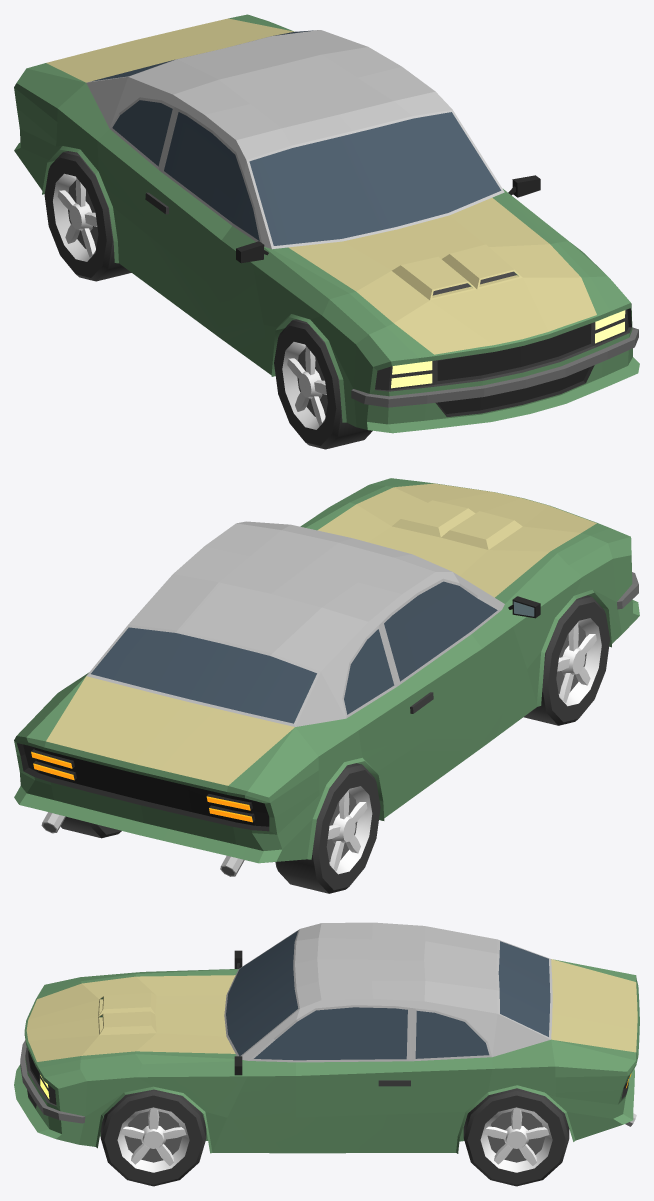
File: muscle.glb
3 views of the same model, one above another, from view 1: azimuth 30°, elevation 25°; view 2: azimuth 150°, elevation 25°; view 3: azimuth 270°, elevation 25° (orthographic). The views are drawn at different scales.
Visible parts, largest first — view 1: N_Muscle Car_10, N_Muscle Car_10 FR Tire, N_Muscle Car_10 BR Tire; view 2: N_Muscle Car_10, N_Muscle Car_10 BR Tire, N_Muscle Car_10 FR Tire, N_Muscle Car_10 BL Tire; view 3: N_Muscle Car_10, N_Muscle Car_10 BL Tire, N_Muscle Car_10 FL Tire.
Part boxes in pixels (box(x1,y1,x2,y2)): N_Muscle Car_10: box(14, 14, 639, 433); N_Muscle Car_10 FR Tire: box(274, 319, 372, 449); N_Muscle Car_10 BR Tire: box(44, 151, 131, 281); N_Muscle Car_10: box(14, 478, 639, 876); N_Muscle Car_10 BR Tire: box(275, 763, 380, 893); N_Muscle Car_10 FR Tire: box(523, 595, 609, 725); N_Muscle Car_10 BL Tire: box(60, 816, 121, 838); N_Muscle Car_10: box(14, 922, 639, 1153); N_Muscle Car_10 BL Tire: box(463, 1088, 569, 1186); N_Muscle Car_10 FL Tire: box(100, 1089, 206, 1186).
Bounding box in the file's own units: 2.03 × 1.44 × 4.64.
Materials: 2 (2 with a texture image).
